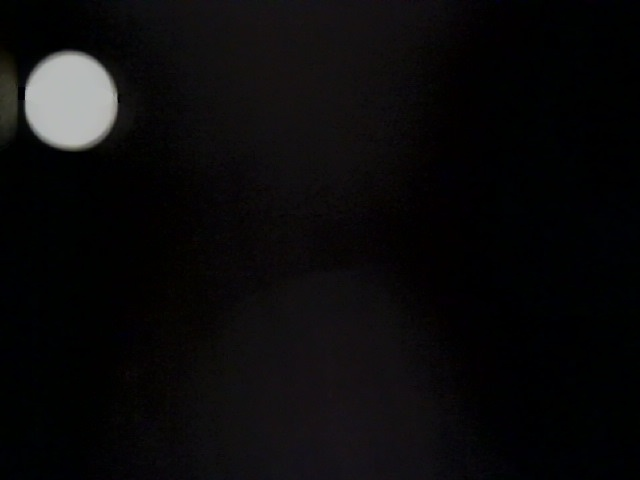QTLJ: (45, 76, 229, 287)
